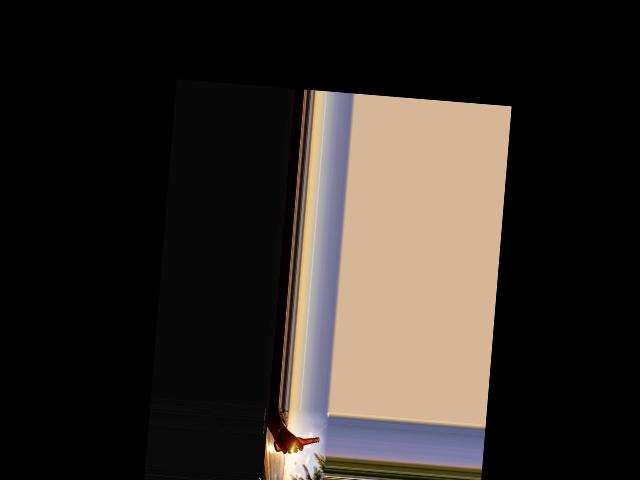beer: (272, 433, 319, 454)
